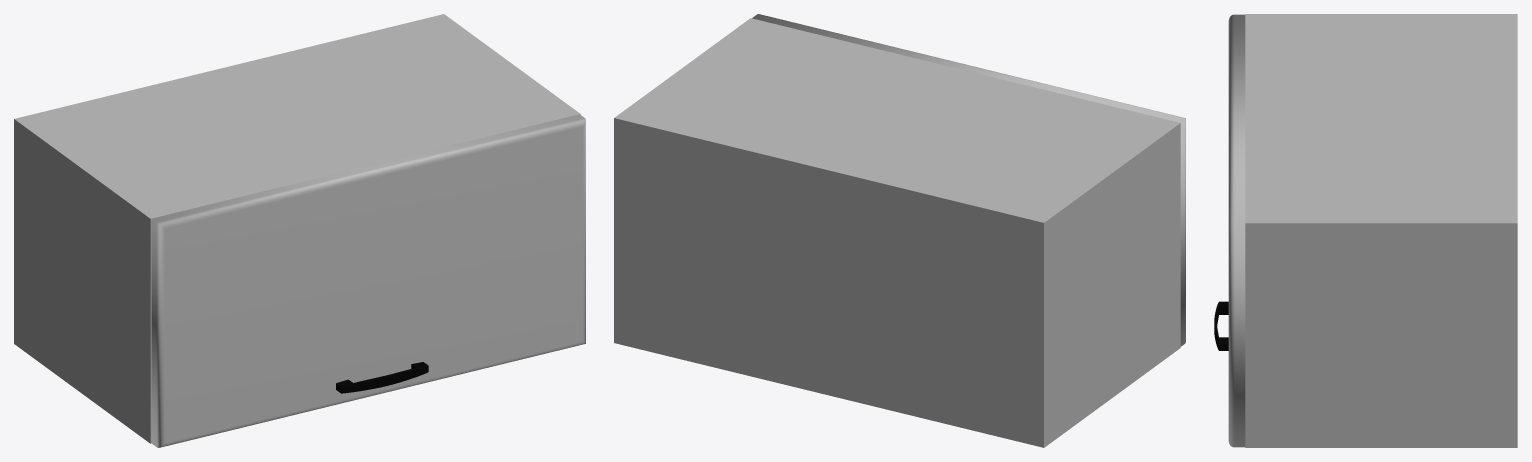
3 renders of one model, left to right at view 1: azimuth 30°, elevation 25°; view 2: azimuth 150°, elevation 25°; view 3: azimuth 270°, elevation 25°, orthographic.
Visible parts, largest first — view 1: Box037, Box015, Obj3d66-503491-2-358; view 2: Box015, Box037; view 3: Box015, Box037, Obj3d66-503491-2-358.
Part boxes in pixels (x1,y1,x2,y2): Box037: [151, 114, 585, 447]; Box015: [14, 14, 580, 443]; Obj3d66-503491-2-358: [336, 362, 428, 393]; Box015: [614, 18, 1180, 447]; Box037: [752, 14, 1185, 346]; Box015: [1245, 14, 1517, 447]; Box037: [1228, 14, 1245, 447]; Obj3d66-503491-2-358: [1214, 301, 1228, 350].
Bounding box in the file's own units: 0.6 × 0.3 × 0.3675.
Materials: 2 (1 with a texture image).
